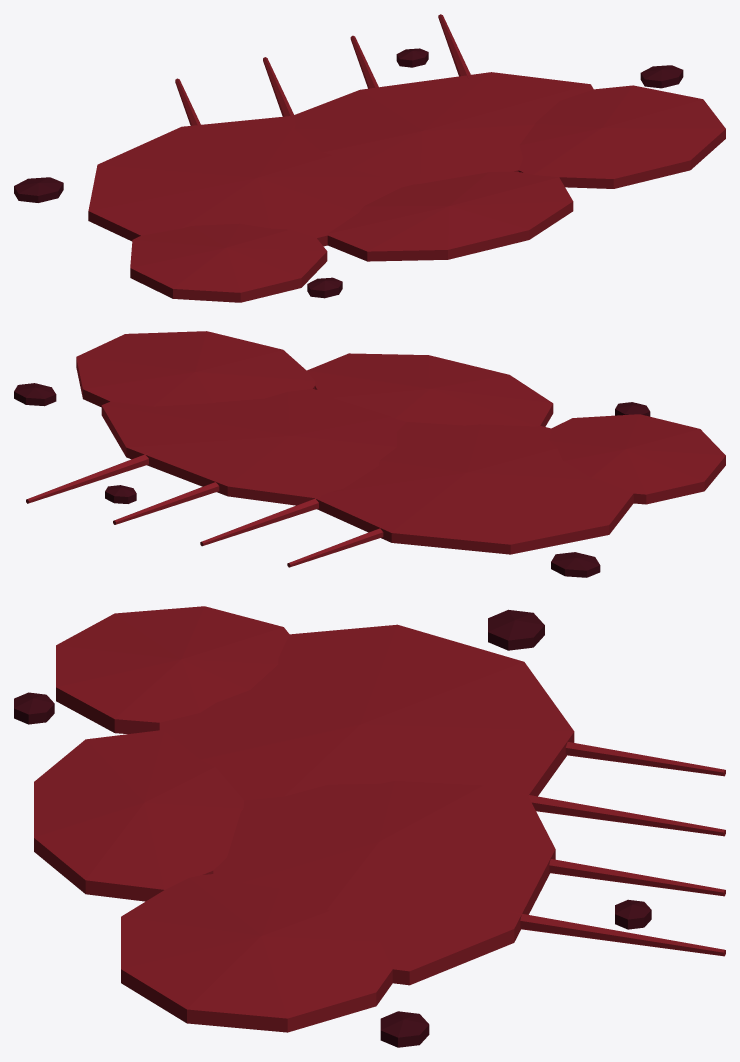
File: route77_blood_splatter.glb
The picture shows the model from 3 angles, top to bottom: view 1: azimuth 30°, elevation 25°; view 2: azimuth 150°, elevation 25°; view 3: azimuth 270°, elevation 25°; orthographic projection. The views are drawn at different scales.
Visible parts, largest first — view 1: Pool lobe, Pool lobe.001, Pool lobe.002, Pool lobe.003, Pool lobe.004, Spatter droplet, Spatter droplet.001, Spatter droplet.003, Dragged blood streak.003, Dragged blood streak.001, Spatter droplet.002, Dragged blood streak.002; view 2: Pool lobe, Pool lobe.001, Pool lobe.002, Pool lobe.003, Pool lobe.004, Dragged blood streak.003, Spatter droplet, Dragged blood streak.001, Dragged blood streak.002, Spatter droplet.001, Dragged blood streak, Spatter droplet.002 (+1 smaller); view 3: Pool lobe, Pool lobe.001, Pool lobe.002, Pool lobe.003, Pool lobe.004, Dragged blood streak.003, Dragged blood streak.001, Dragged blood streak.002, Spatter droplet, Dragged blood streak, Spatter droplet.001, Spatter droplet.003 (+1 smaller).
Part boxes in pixels (<box>): Pool lobe: <box>88,116,401,246</box>; Pool lobe.001: <box>292,72,593,187</box>; Pool lobe.002: <box>518,85,725,188</box>; Pool lobe.003: <box>327,171,573,261</box>; Pool lobe.004: <box>130,223,327,302</box>; Spatter droplet: <box>14,177,63,202</box>; Spatter droplet.001: <box>640,65,683,88</box>; Spatter droplet.003: <box>307,277,342,298</box>; Dragged blood streak.003: <box>438,14,470,78</box>; Dragged blood streak.001: <box>263,57,293,117</box>; Spatter droplet.002: <box>396,48,428,67</box>; Dragged blood streak.002: <box>350,35,378,88</box>; Pool lobe: <box>314,422,633,554</box>; Pool lobe.001: <box>101,389,406,505</box>; Pool lobe.002: <box>76,331,315,407</box>; Pool lobe.003: <box>307,353,553,426</box>; Pool lobe.004: <box>549,414,725,504</box>; Dragged blood streak.003: <box>26,452,149,503</box>; Spatter droplet: <box>551,552,600,577</box>; Dragged blood streak.001: <box>200,498,318,546</box>; Dragged blood streak.002: <box>113,482,219,524</box>; Spatter droplet.001: <box>14,383,56,406</box>; Dragged blood streak: <box>287,528,383,567</box>; Spatter droplet.002: <box>105,485,136,503</box>; Pool lobe: <box>159,624,574,800</box>; Pool lobe.001: <box>213,780,555,985</box>; Pool lobe.002: <box>121,874,392,1032</box>; Pool lobe.003: <box>34,730,243,901</box>; Pool lobe.004: <box>56,606,289,734</box>; Dragged blood streak.003: <box>510,911,725,956</box>; Dragged blood streak.001: <box>522,793,725,836</box>; Dragged blood streak.002: <box>549,859,725,896</box>; Spatter droplet: <box>488,609,544,650</box>; Dragged blood streak: <box>565,742,725,776</box>; Spatter droplet.001: <box>380,1011,429,1047</box>; Spatter droplet.003: <box>14,692,54,724</box>.
Size of the model in its own units: 1.64 by 0.05 by 1.15.
